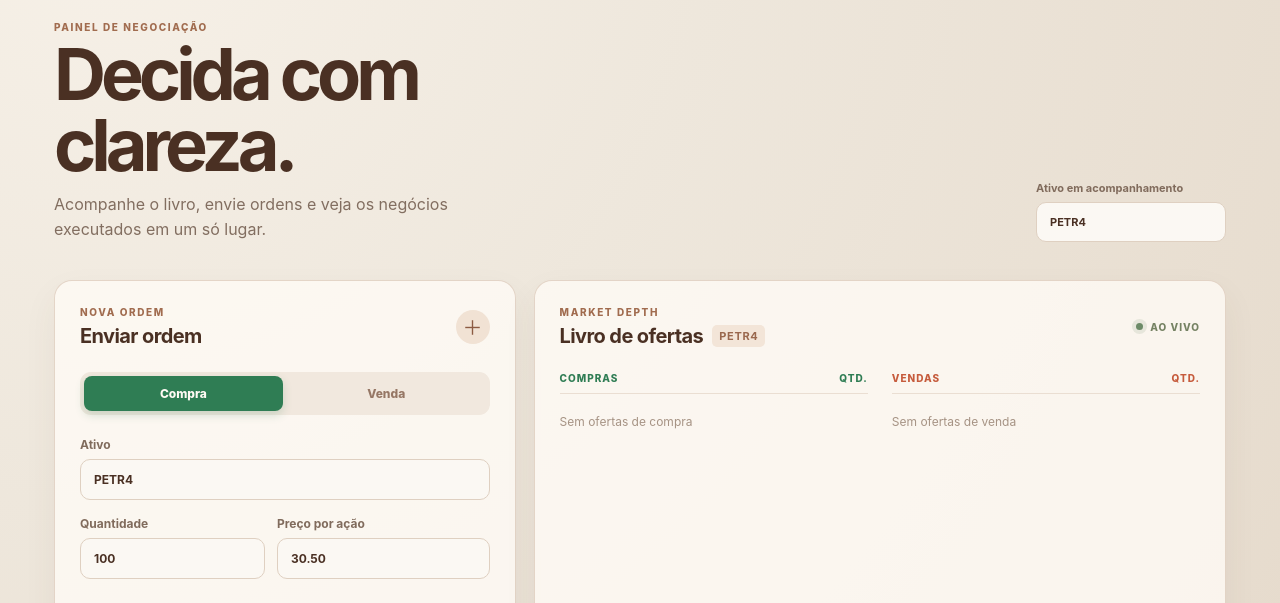
App › envia uma ordem com preço decimal digitado com vírgula
Replace the text in the number field labelled "Quantidade" with "25" at (172, 558), box [80, 538, 265, 579]
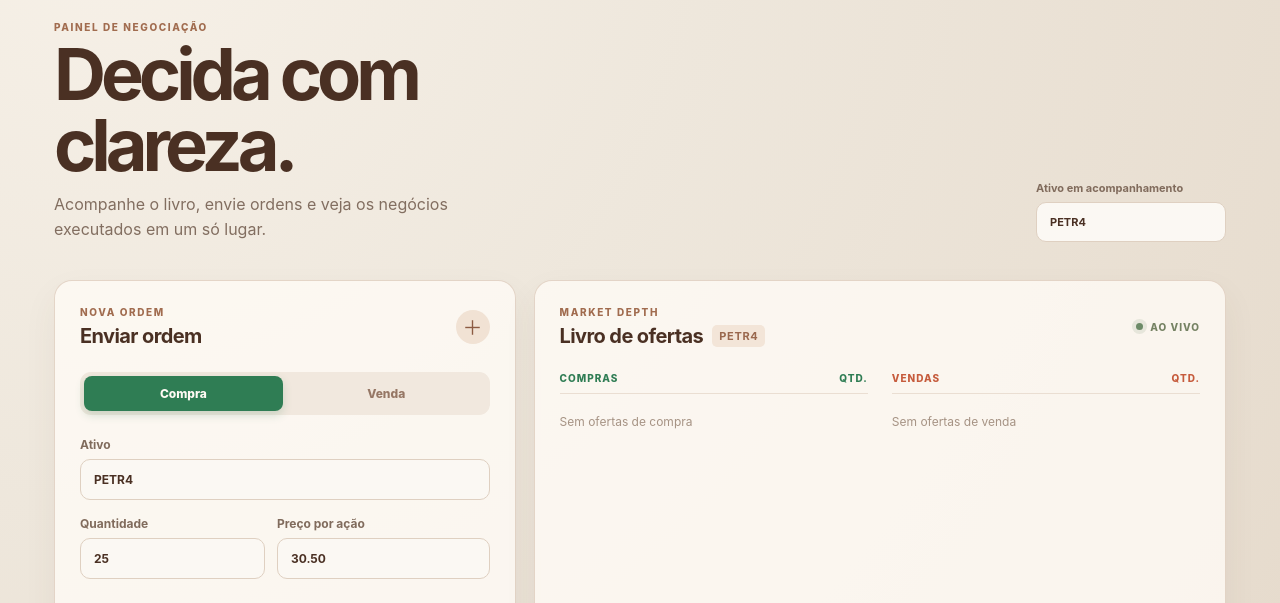
Replace the text in the field labelled "Preço por ação" with "30,75" at (383, 558), box [277, 538, 490, 579]
(page scrolled)
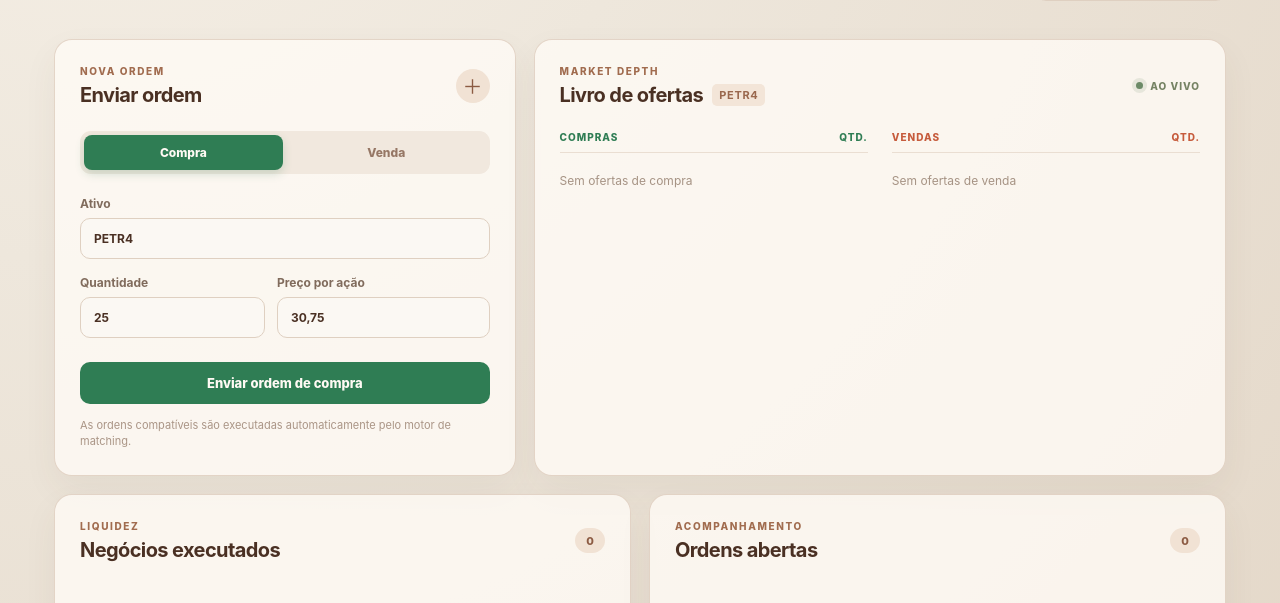
Submit the form named "Enviar ordem de compra", box [54, 39, 516, 476]
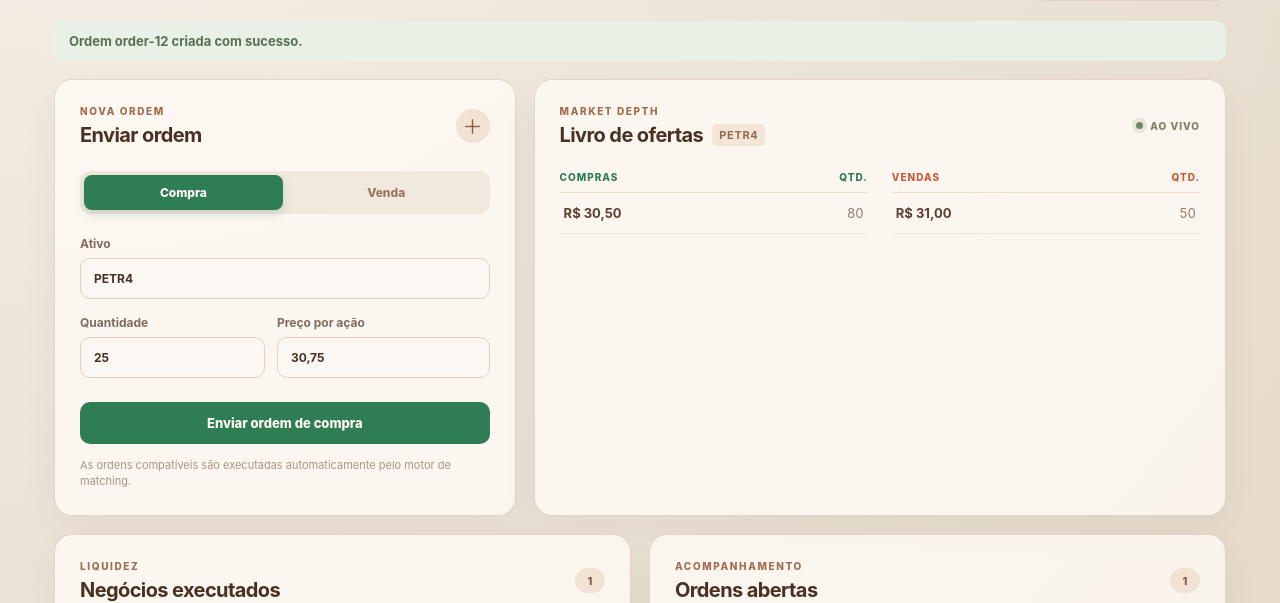
Check: the text "Ordem order-12 criada com sucesso." is shown, box [54, 21, 1226, 61]
